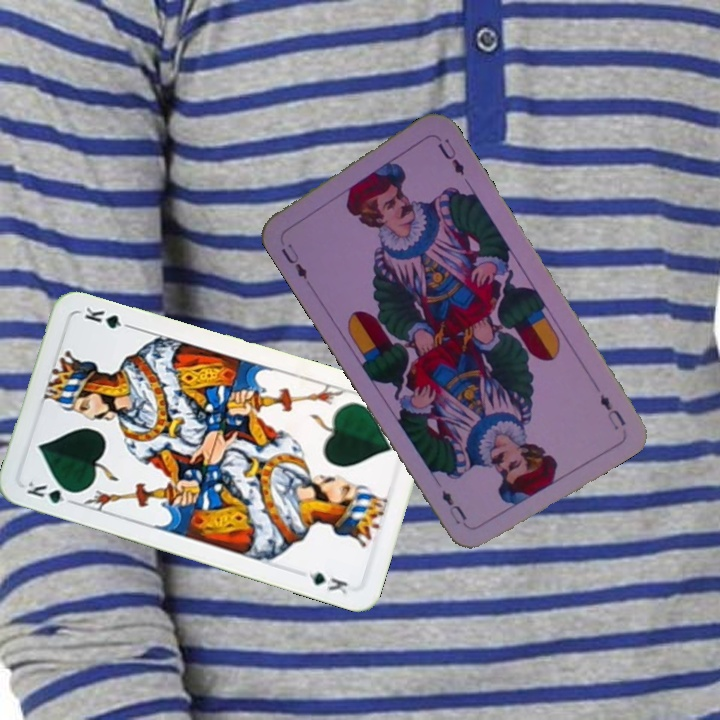EU: (276, 239, 310, 282), (595, 390, 629, 433)
GK: (22, 476, 80, 507)
